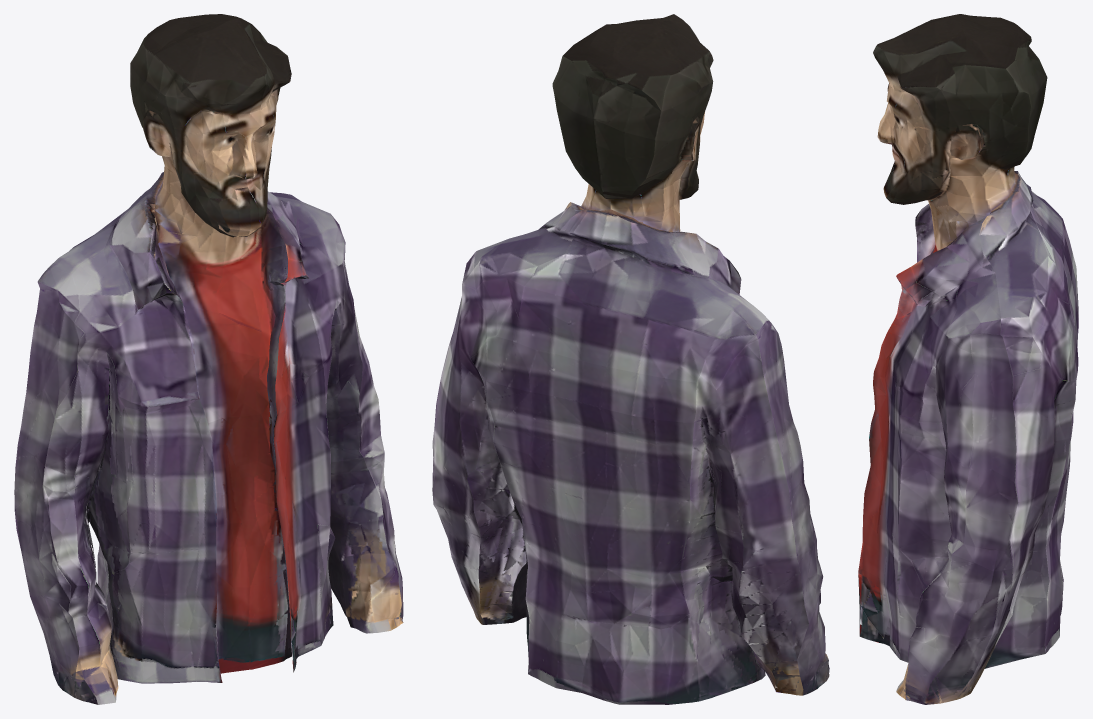
File: step_10.glb
The picture shows the model from 3 angles, left to right: view 1: azimuth 30°, elevation 25°; view 2: azimuth 150°, elevation 25°; view 3: azimuth 270°, elevation 25°; orthographic projection. The views are drawn at different scales.
Parts seen in each view (by area): view 1: geometry_0; view 2: geometry_0; view 3: geometry_0.
Part boxes in pixels (box(x1,y1,x2,y2)): geometry_0: box(14, 14, 403, 704); geometry_0: box(432, 14, 829, 704); geometry_0: box(858, 14, 1078, 704).
Size of the model in its own units: 0.5031 by 0.8284 by 0.2748.
1 material, 1 textured.
